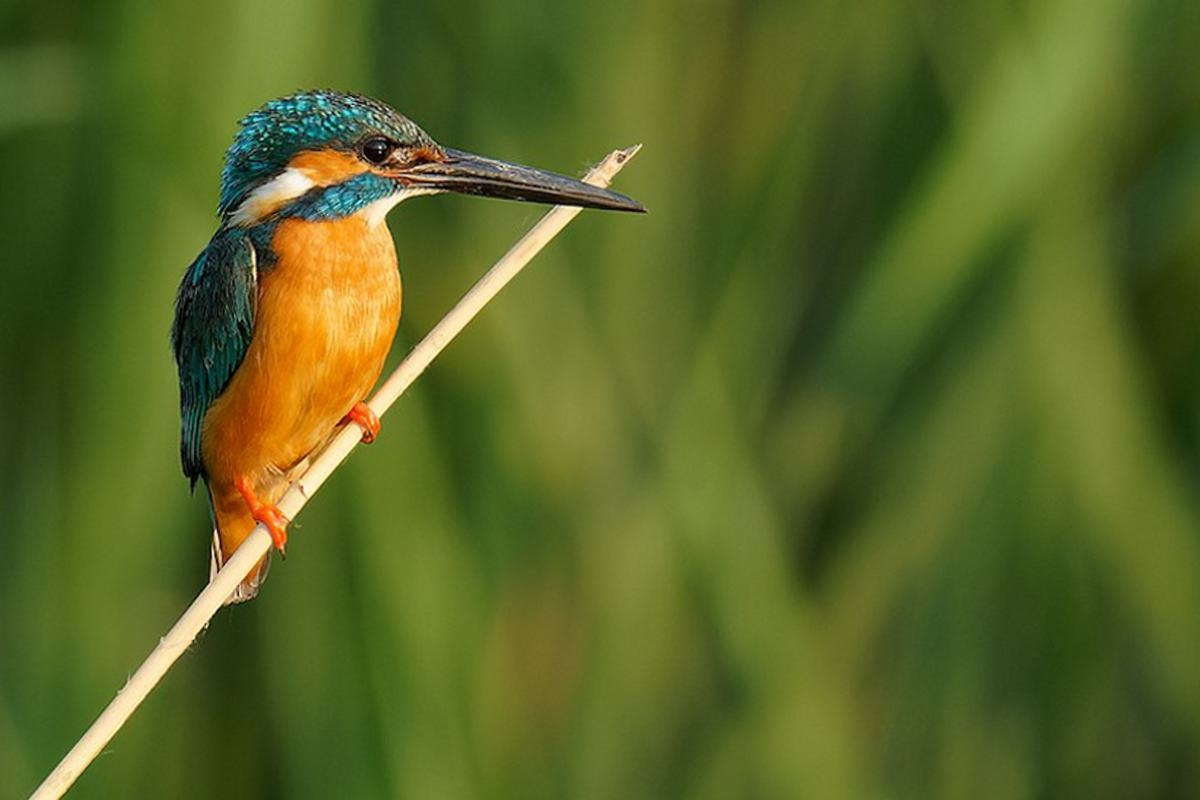kingfisher: (151, 69, 640, 586)
